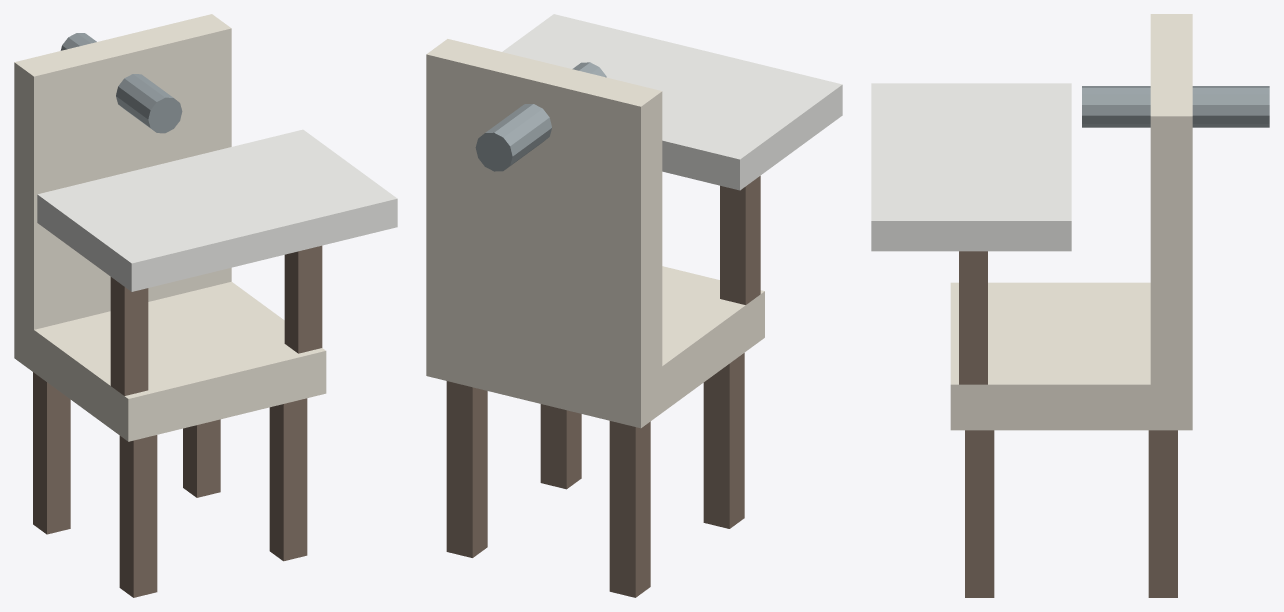
File: highchair.glb
The picture shows the model from 3 angles, left to right: view 1: azimuth 30°, elevation 25°; view 2: azimuth 150°, elevation 25°; view 3: azimuth 270°, elevation 25°; orthographic projection. The views are drawn at different scales.
Parts seen in each view (by area): view 1: part_01, part_06, part_00, part_03, part_05, part_02, tray_post_left, tray_post_right, part_07, part_04; view 2: part_01, part_06, part_00, part_02, part_04, part_03, tray_post_left, part_07, part_05; view 3: part_06, part_00, part_01, part_07, part_04, part_05, tray_post_right.
Part boxes in pixels (<box>): part_01: <box>14,14,231,332</box>; part_06: <box>37,129,397,291</box>; part_00: <box>14,281,326,441</box>; part_03: <box>119,435,157,597</box>; part_05: <box>269,398,307,561</box>; part_02: <box>33,372,70,534</box>; tray_post_left: <box>110,277,148,395</box>; tray_post_right: <box>284,245,322,353</box>; part_07: <box>60,33,182,133</box>; part_04: <box>183,419,220,497</box>; part_01: <box>426,39,662,385</box>; part_06: <box>502,14,842,190</box>; part_00: <box>426,266,764,428</box>; part_02: <box>609,421,650,597</box>; part_04: <box>446,381,487,557</box>; part_03: <box>703,353,744,528</box>; tray_post_left: <box>720,176,760,304</box>; part_07: <box>475,62,606,171</box>; part_05: <box>540,404,581,489</box>; part_06: <box>871,83,1071,251</box>; part_00: <box>950,282,1192,430</box>; part_01: <box>1150,14,1192,388</box>; part_07: <box>1082,86,1269,127</box>; part_04: <box>1148,430,1177,597</box>; part_05: <box>965,430,994,597</box>; tray_post_right: <box>959,251,987,384</box>.
Size of the model in its own units: 0.78 by 1.29 by 0.955.
